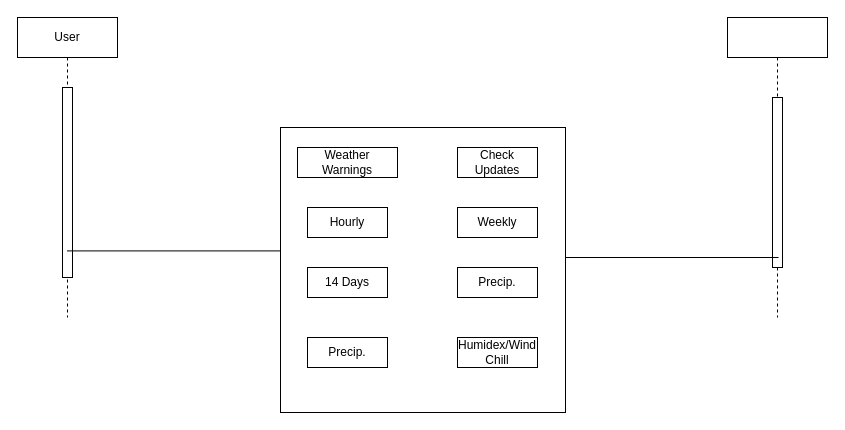
This 845x430 diagram has some shape labels left out. The box of each missing label's shape, as (x1, y1, x2, y2) in pixels:
Admin: (726, 16, 828, 318)
METE: (280, 126, 566, 412)
